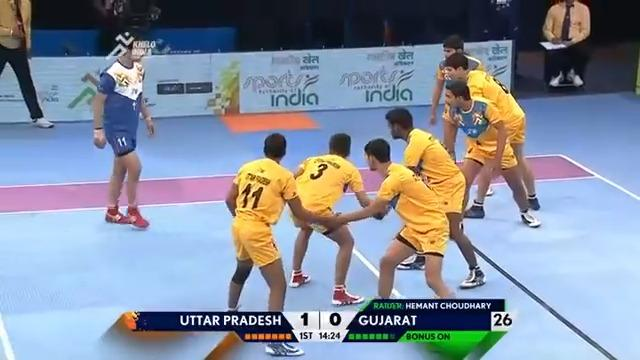Player: (224, 132, 338, 356), (309, 137, 456, 300), (384, 107, 486, 289), (287, 132, 386, 306), (442, 78, 541, 228), (428, 33, 469, 163)
Raider: (91, 31, 155, 229)
referee: (0, 0, 54, 128), (540, 0, 591, 89)
